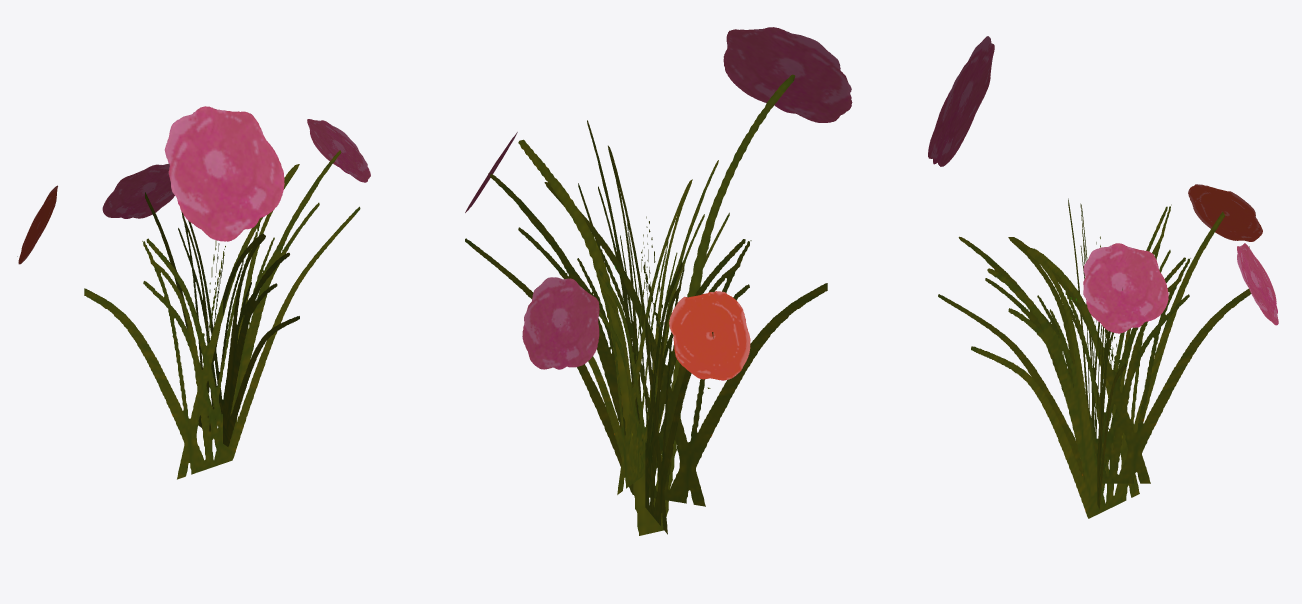
File: SM_flowers_02.glb
3 views of the same model, side by side, from view 1: azimuth 30°, elevation 25°; view 2: azimuth 150°, elevation 25°; view 3: azimuth 270°, elevation 25° (orthographic). The views are drawn at different scales.
Parts seen in each view (by area): view 1: SM_flowers_02; view 2: SM_flowers_02; view 3: SM_flowers_02.
Part boxes in pixels (x1,y1,x2,y2): SM_flowers_02: [17, 106, 370, 479]; SM_flowers_02: [465, 27, 852, 535]; SM_flowers_02: [928, 36, 1278, 518].
Size of the model in its own units: 0.1931 by 0.261 by 0.1949.
Materials: 1 (1 with a texture image).
